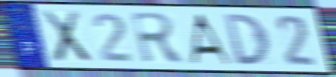2: (276, 13, 318, 68), (92, 11, 134, 64)
A: (187, 12, 234, 66)
D: (222, 12, 273, 67)
R: (128, 11, 188, 65)
X: (39, 9, 94, 64)
